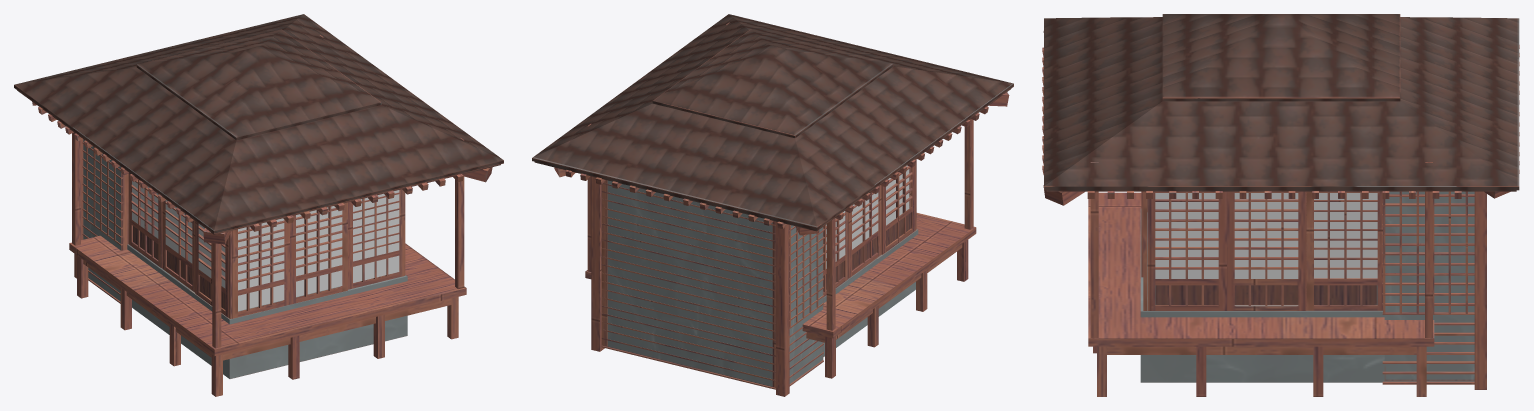
The model's file is ZenHaus.fbx.
3 views of the same model, side by side, from view 1: azimuth 30°, elevation 25°; view 2: azimuth 150°, elevation 25°; view 3: azimuth 270°, elevation 25° (orthographic). The views are drawn at different scales.
Parts seen in each view (by area): view 1: ZenHaus; view 2: ZenHaus; view 3: ZenHaus.
Boxes of the visible parts, x1,y1,x2,y2 form: ZenHaus: (14, 14, 503, 396); ZenHaus: (532, 14, 1013, 396); ZenHaus: (1042, 14, 1519, 396).
Bounding box in the file's own units: 480 × 416 × 569.
